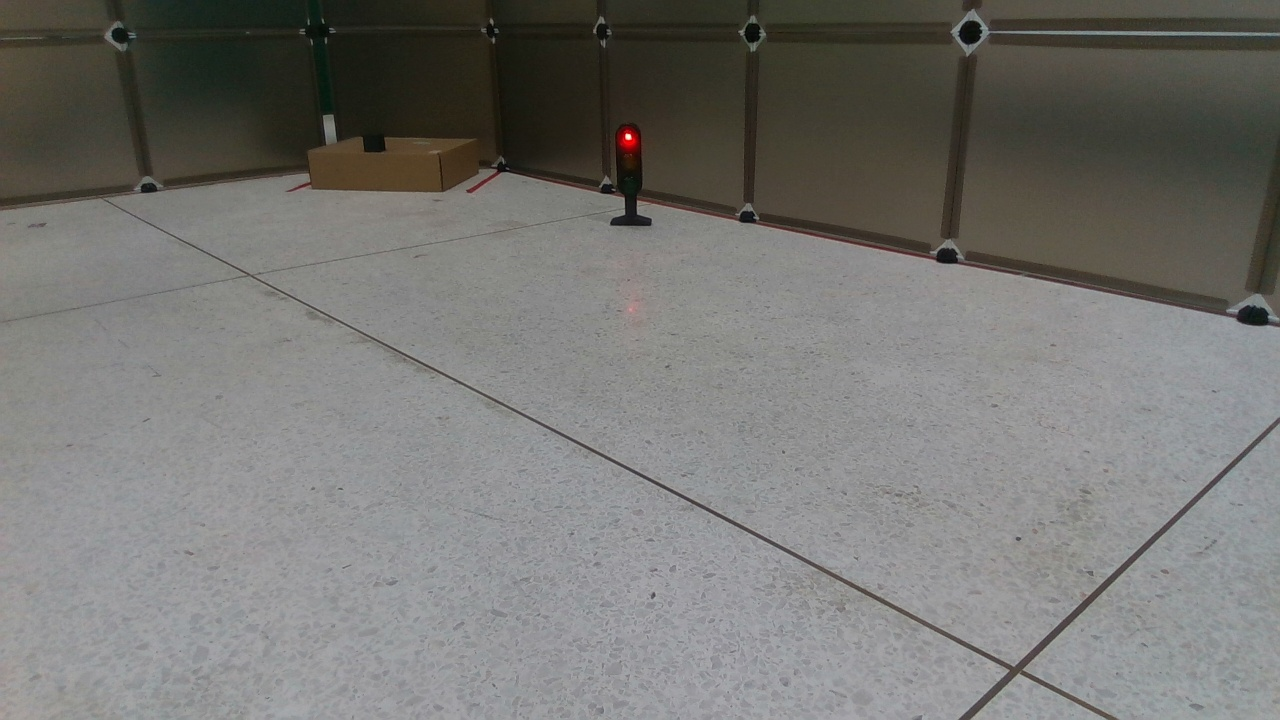Red traffic light: (609, 123, 655, 228)
